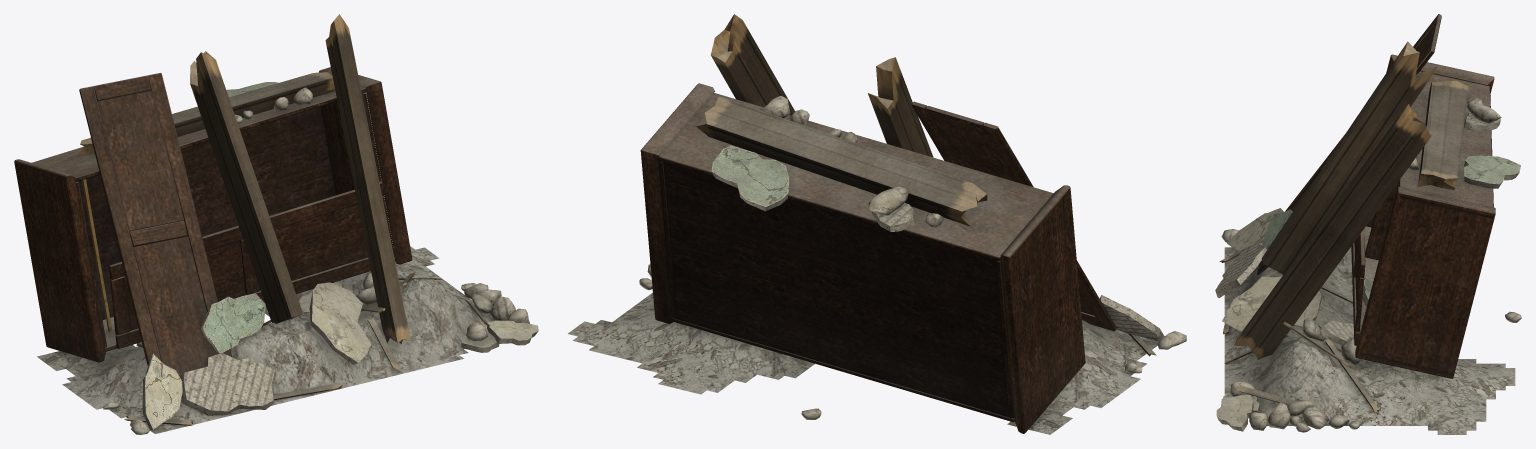
The model's file is prop_stair_collapse.glb.
The picture shows the model from 3 angles, left to right: view 1: azimuth 30°, elevation 25°; view 2: azimuth 150°, elevation 25°; view 3: azimuth 270°, elevation 25°; orthographic projection. The views are drawn at different scales.
Visible parts, largest first — view 1: Body; view 2: Body; view 3: Body.
Boxes of the visible parts, left/top/right/bottom form: Body: left=14, top=14, right=538, bottom=434; Body: left=568, top=14, right=1186, bottom=434; Body: left=1215, top=14, right=1521, bottom=434.
Size of the model in its own units: 2.41 by 1.58 by 1.58.
Materials: 3 (3 with a texture image).
